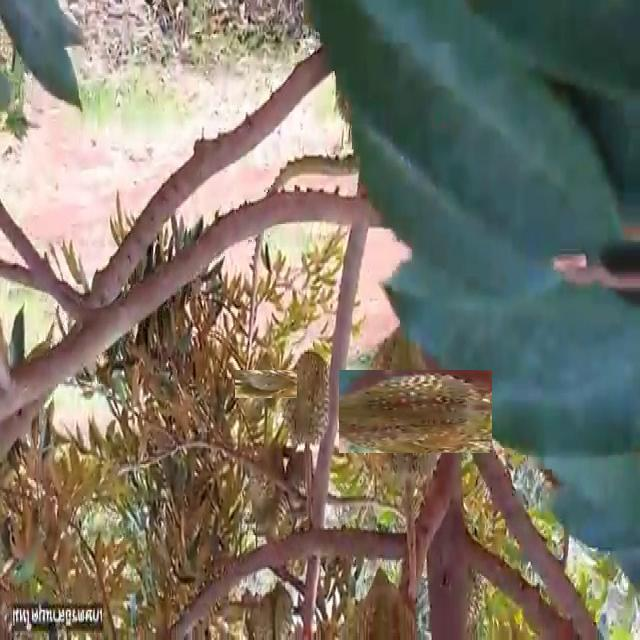durian: (341, 347, 469, 476), (285, 334, 339, 453), (248, 446, 286, 534), (243, 361, 289, 406)
